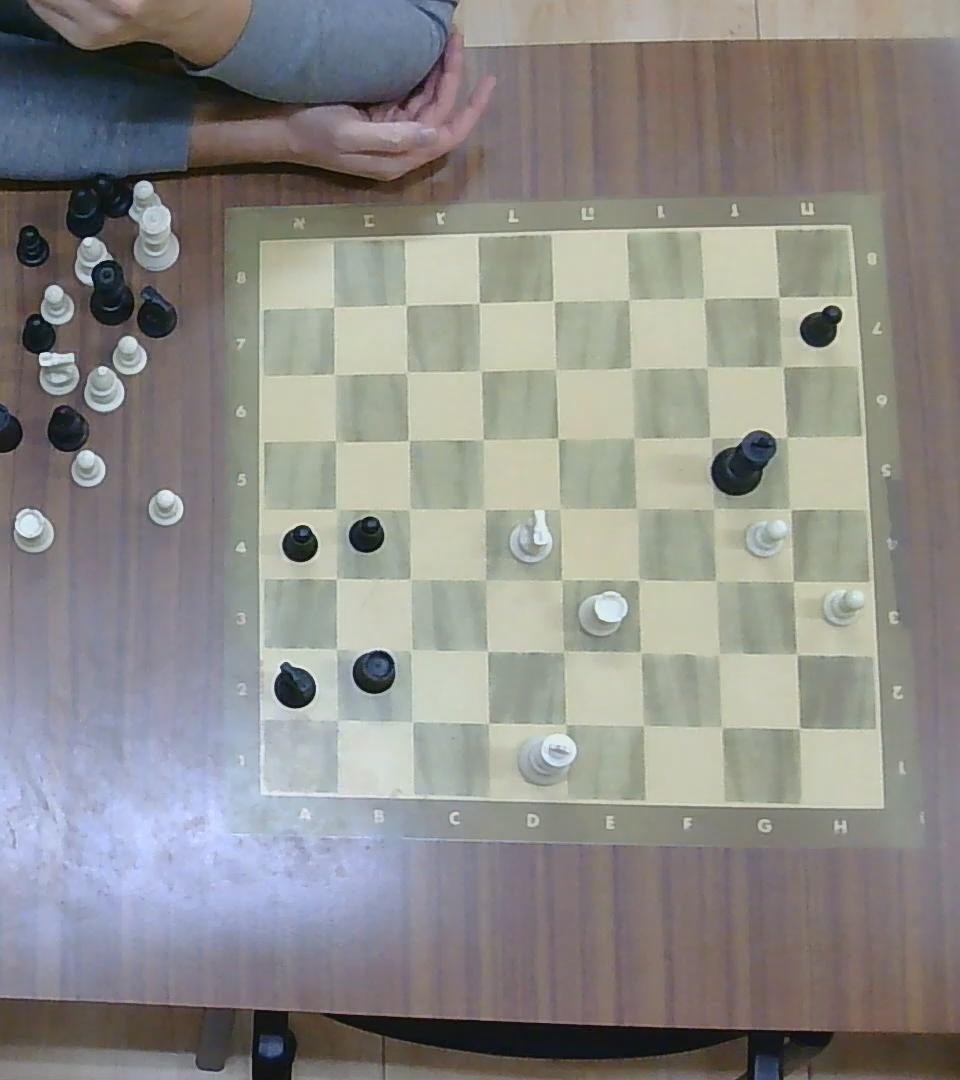xcorner: (701, 638, 735, 670), (626, 707, 658, 739), (625, 635, 656, 667), (548, 706, 579, 738), (705, 709, 736, 741), (471, 706, 502, 737), (622, 563, 653, 594), (781, 637, 812, 668), (321, 703, 352, 734), (783, 711, 813, 743), (548, 635, 578, 667), (471, 634, 501, 665), (396, 705, 427, 735), (615, 283, 645, 313), (700, 565, 730, 595), (321, 634, 351, 664), (548, 563, 577, 594), (623, 492, 652, 523), (545, 494, 574, 524), (470, 564, 500, 593), (541, 285, 570, 315), (698, 493, 728, 522), (543, 352, 571, 383), (470, 493, 499, 522), (777, 567, 806, 596), (465, 287, 494, 316), (395, 635, 424, 664), (619, 353, 648, 382), (776, 493, 805, 522), (545, 422, 573, 451), (469, 424, 497, 453), (693, 351, 721, 380), (392, 289, 420, 318), (467, 355, 495, 383), (395, 564, 423, 592), (621, 422, 648, 451), (321, 563, 350, 590), (698, 422, 725, 451), (692, 284, 719, 312), (769, 352, 797, 379), (321, 359, 349, 386), (396, 493, 422, 522), (396, 425, 422, 452), (323, 426, 349, 453), (773, 422, 800, 448), (324, 494, 350, 521), (394, 358, 420, 383), (321, 294, 346, 319), (767, 284, 791, 309)
